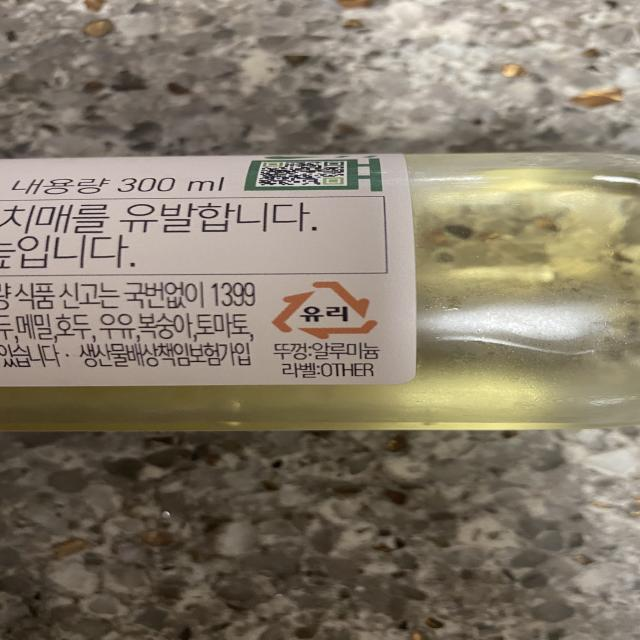Glass: (269, 278, 386, 341)
